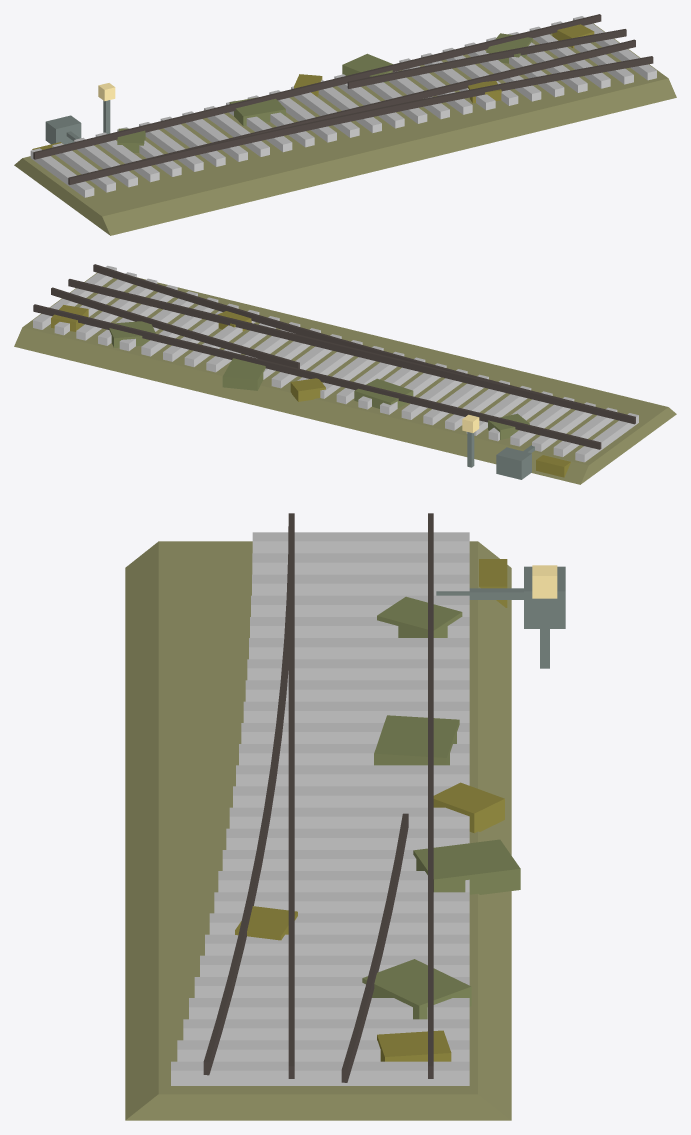
File: SM_Via_DesvioDer_v2_Maleza_LOD0.fbx
3 views of the same model, one above another, from view 1: azimuth 30°, elevation 25°; view 2: azimuth 150°, elevation 25°; view 3: azimuth 270°, elevation 25° (orthographic). The views are drawn at different scales.
Parts seen in each view (by area): view 1: SM_via_trazado_v32_LOD0; view 2: SM_via_trazado_v32_LOD0; view 3: SM_via_trazado_v32_LOD0.
Boxes of the visible parts, bbox=[...] form: SM_via_trazado_v32_LOD0: bbox=[14, 14, 676, 235]; SM_via_trazado_v32_LOD0: bbox=[14, 264, 676, 484]; SM_via_trazado_v32_LOD0: bbox=[125, 513, 565, 1120].
Size of the model in its own units: 15.78 by 1.27 by 5.28.
